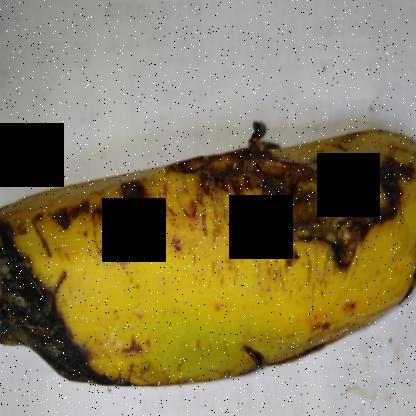ripe: (112, 128, 416, 389)
rotten: (178, 75, 415, 283), (0, 190, 130, 409)
